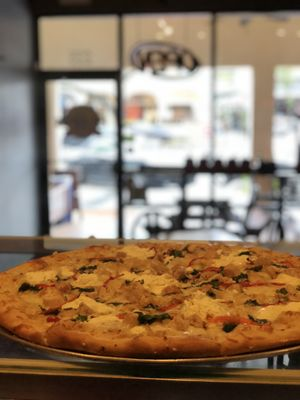sandwich: (0, 240, 300, 358)
